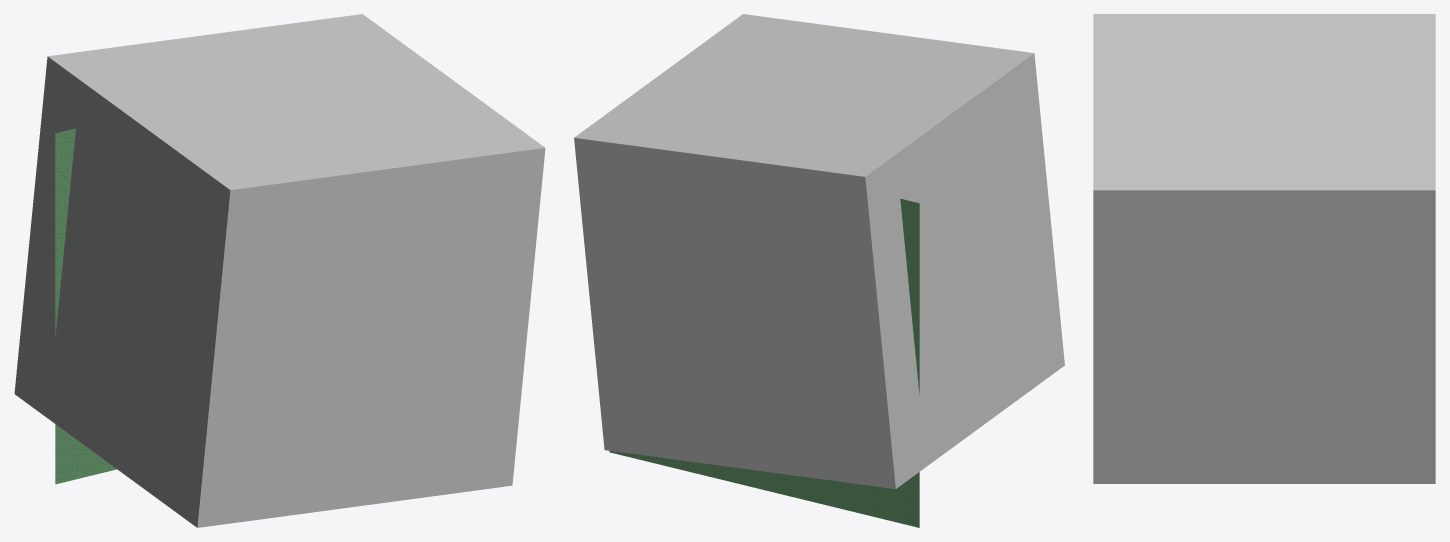
File: roomMVP.obj
The picture shows the model from 3 angles, left to right: view 1: azimuth 30°, elevation 25°; view 2: azimuth 150°, elevation 25°; view 3: azimuth 270°, elevation 25°; orthographic projection. The views are drawn at different scales.
Parts seen in each view (by area): view 1: Skybox, S_Grass_Plane; view 2: Skybox, S_Grass_Plane; view 3: Skybox.
Boxes of the visible parts, x1,y1,x2,y2 form: Skybox: [14, 14, 545, 527]; S_Grass_Plane: [55, 128, 116, 484]; Skybox: [574, 14, 1064, 489]; S_Grass_Plane: [609, 198, 919, 527]; Skybox: [1093, 14, 1435, 483].
Bounding box in the file's own units: 107 × 117 × 97.46.
